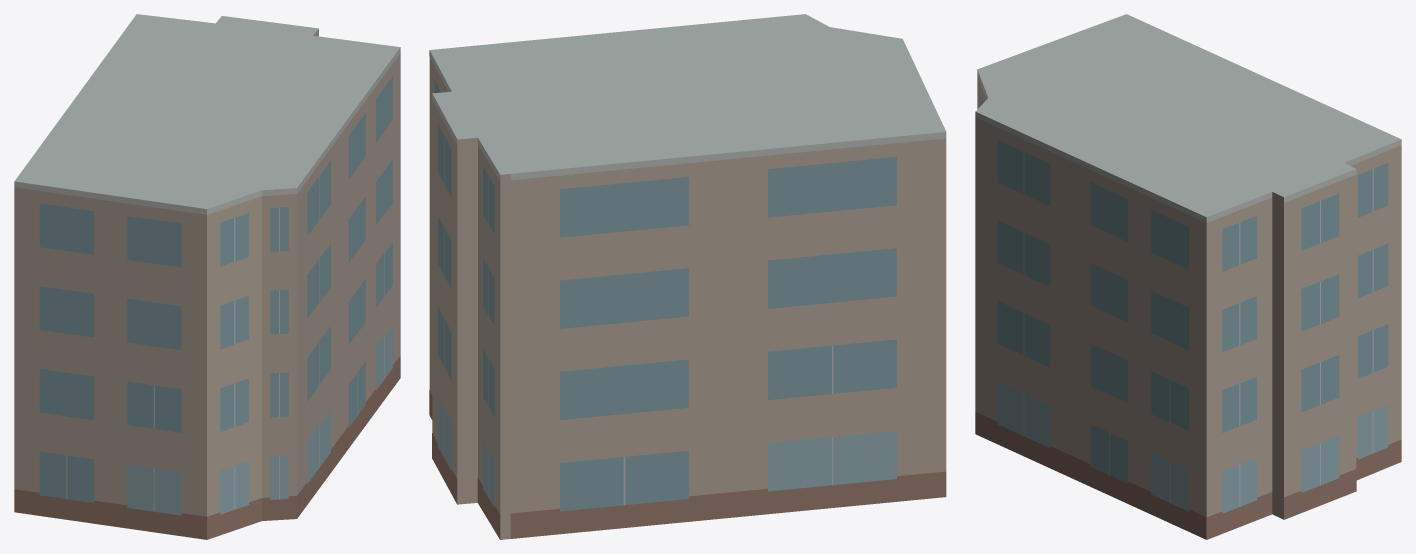
The model's file is survey-upis-33014723.glb.
3 views of the same model, side by side, from view 1: azimuth 30°, elevation 25°; view 2: azimuth 150°, elevation 25°; view 3: azimuth 270°, elevation 25° (orthographic). The views are drawn at different scales.
Parts seen in each view (by area): view 1: survey-upis-33014723.tmp; view 2: survey-upis-33014723.tmp; view 3: survey-upis-33014723.tmp.
Boxes of the visible parts, left/top/right/bottom form: survey-upis-33014723.tmp: left=14, top=14, right=400, bottom=539; survey-upis-33014723.tmp: left=429, top=14, right=946, bottom=539; survey-upis-33014723.tmp: left=975, top=14, right=1401, bottom=539.
Size of the model in its own units: 18.66 by 13.8 by 16.53.
